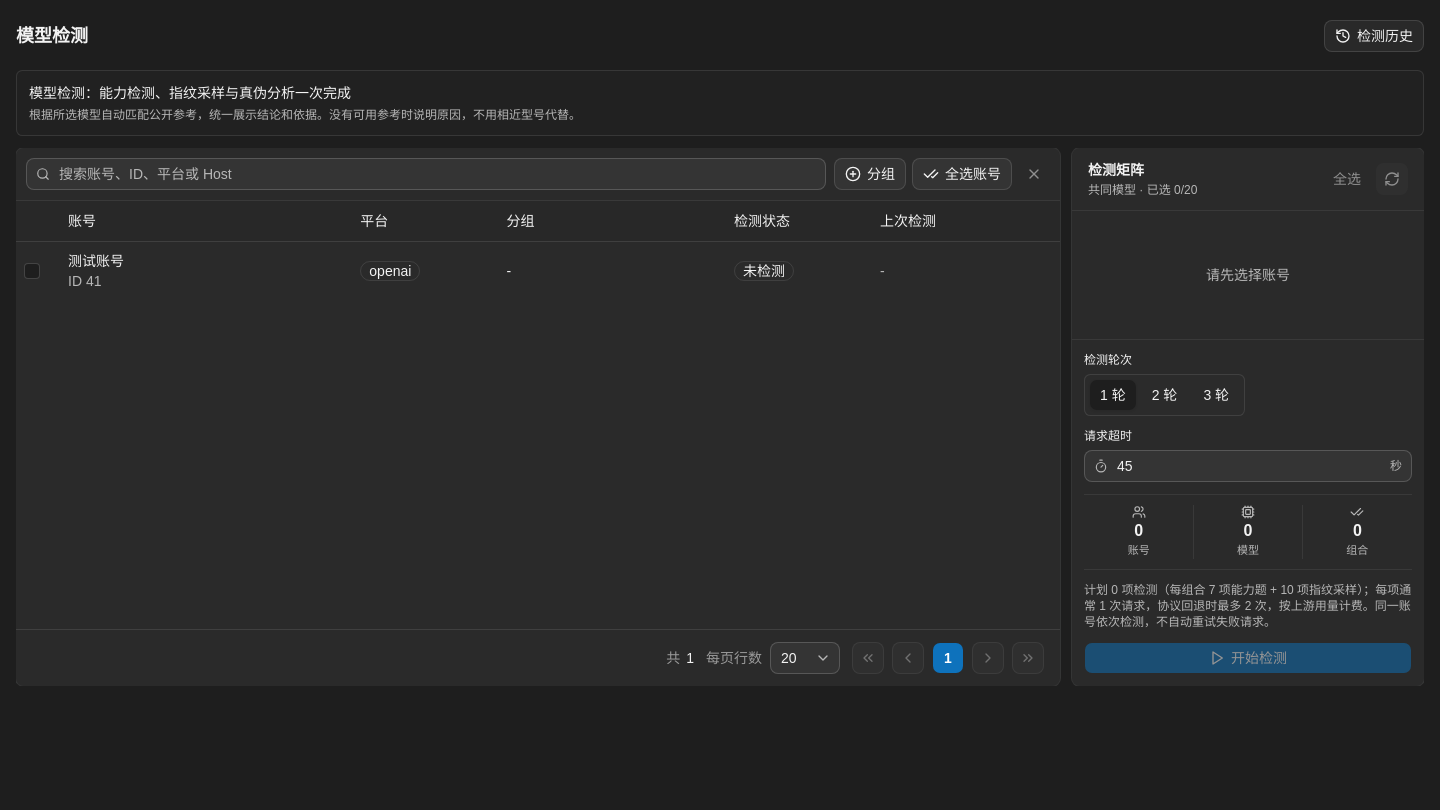
Scenario: 刷新共同模型期间保留列表节点与选择，失败时仅悬浮提示并禁止检测
The image size is (1440, 810).
Step 1. Click the button "全选账号" → (962, 174), box [912,158,1012,190]
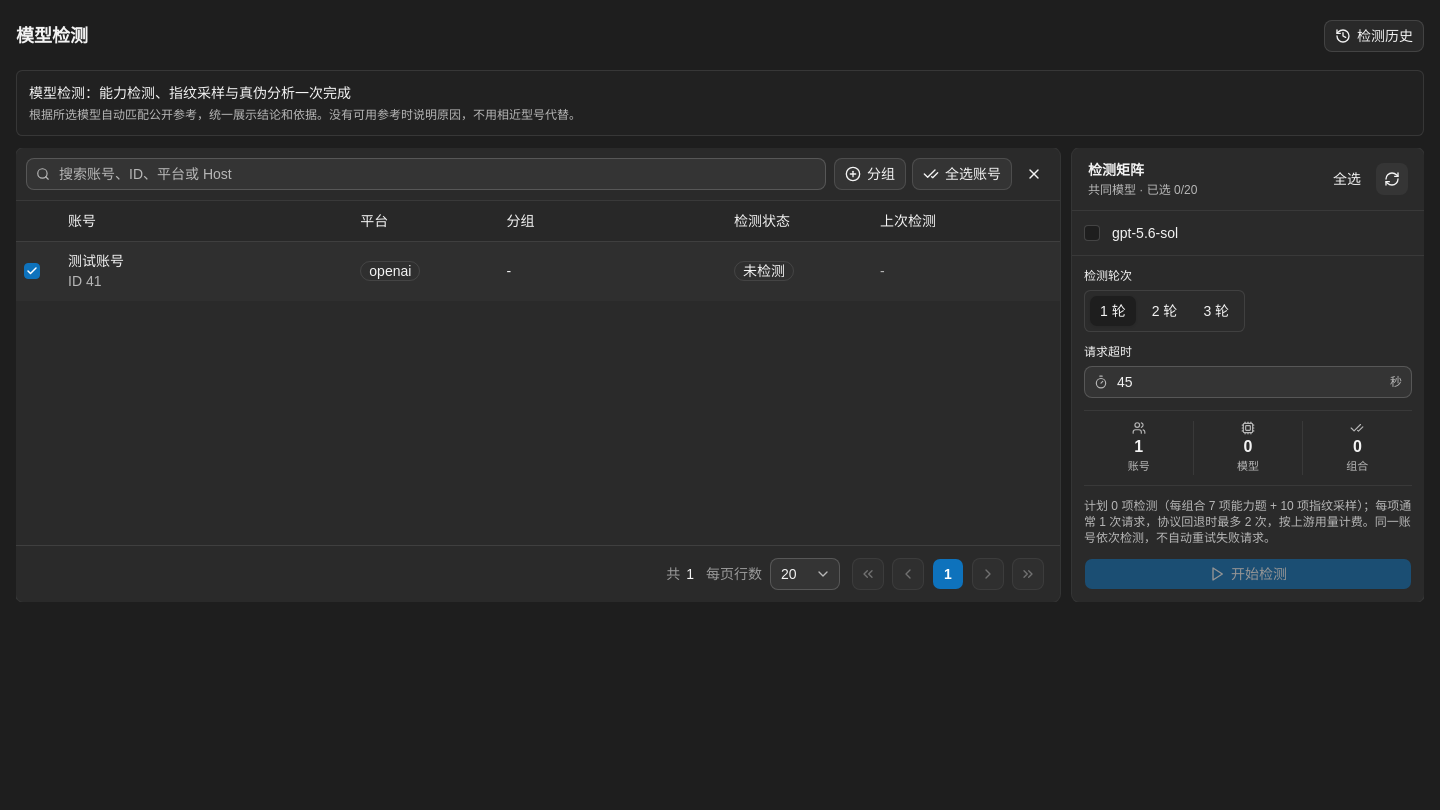
Step 2. Click the checkbox named "gpt-5.6-sol" → (1092, 233), box [1084,225,1100,241]
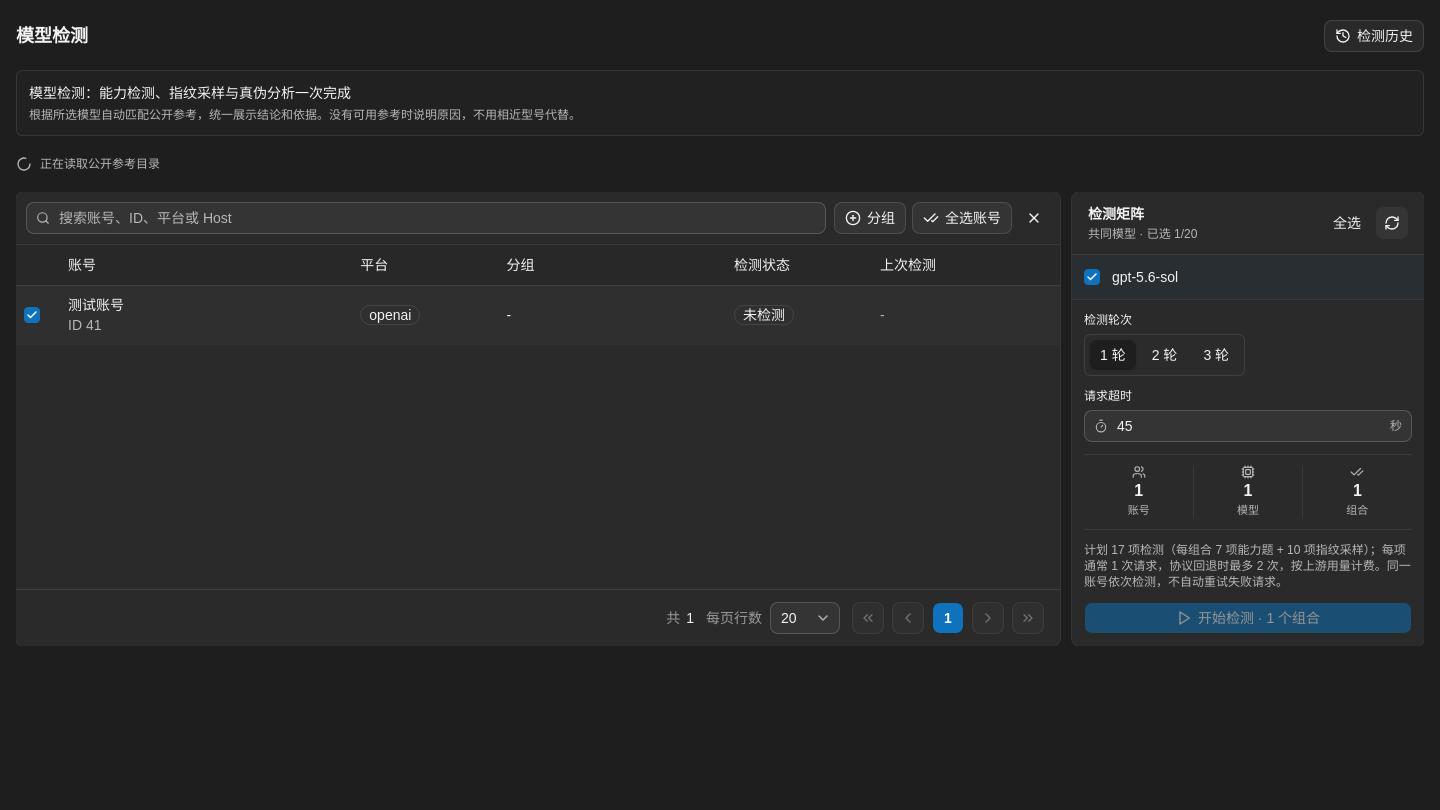
Step 3. Click the button named "刷新模型" → (1392, 223), box [1376,207,1408,239]
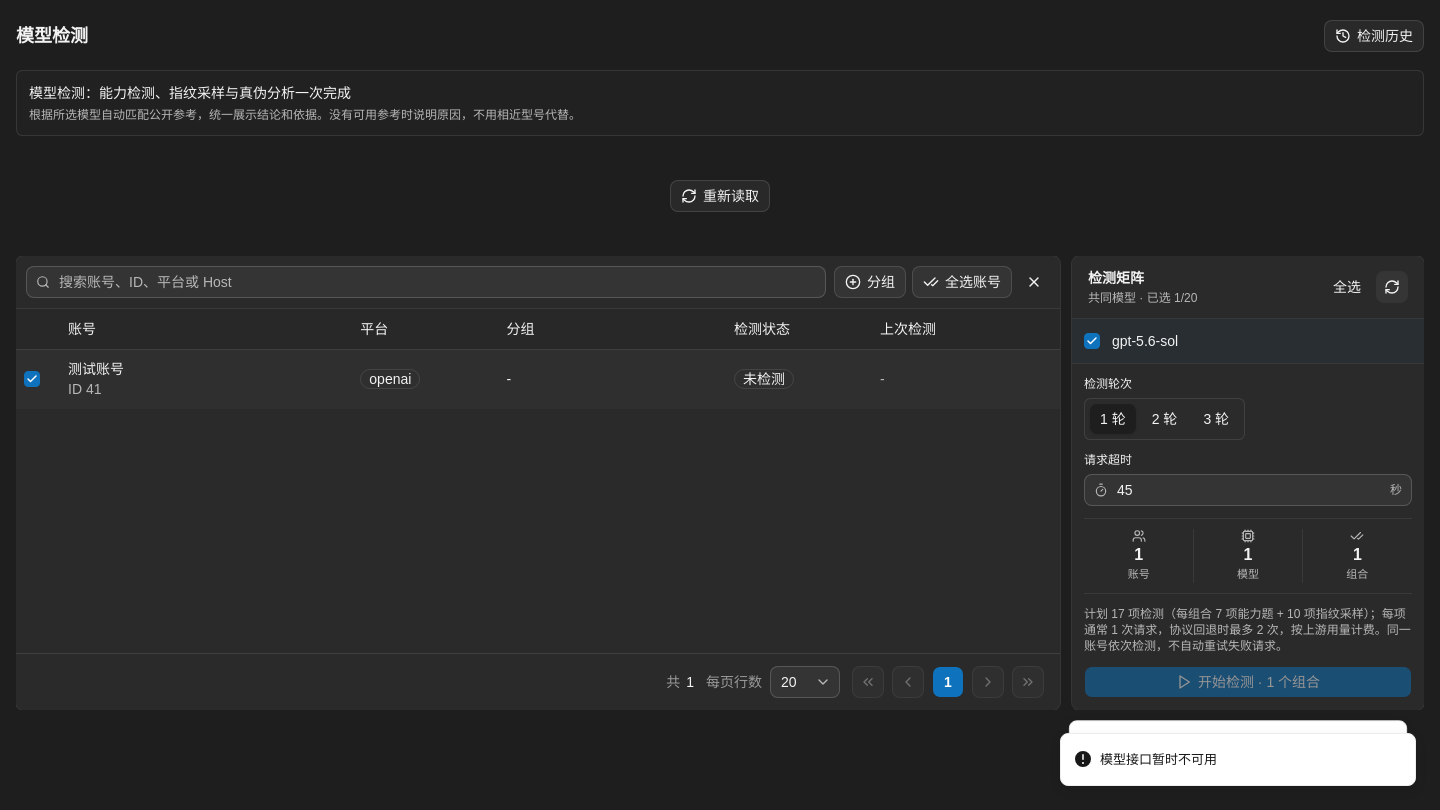
Now the checkbox named "gpt-5.6-sol" is checked, box [1084,333,1100,349]
Now the text "模型接口暂时不可用" is shown, box [1100,750,1217,769]
Now the message "正在读取公开参考目录" is gone
